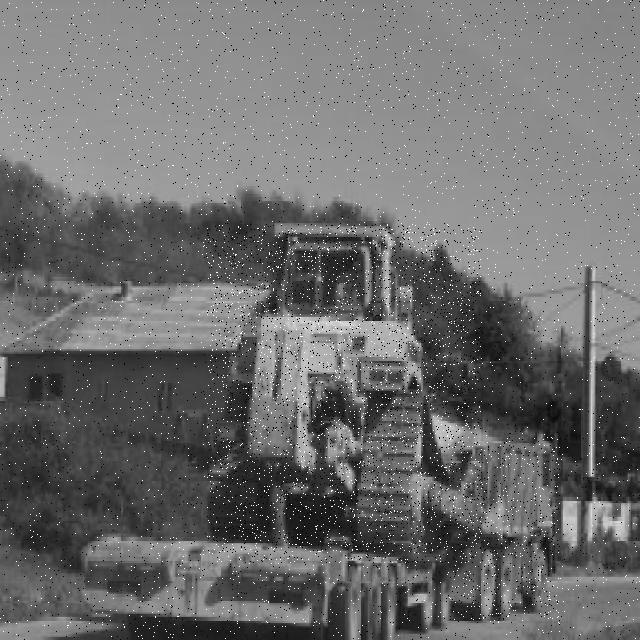Construction Equipment: (207, 224, 482, 563)
Trailer: (84, 541, 452, 640)
Truck- Multi-Axle: (450, 437, 560, 621)
